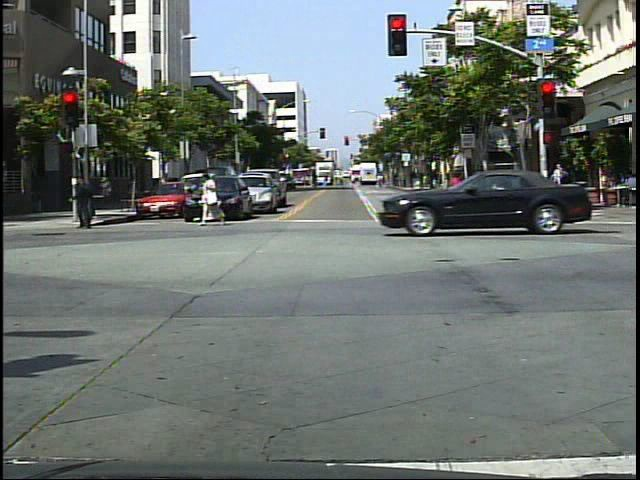person: (70, 169, 102, 235), (196, 168, 228, 232), (443, 166, 473, 225), (548, 160, 570, 211)
